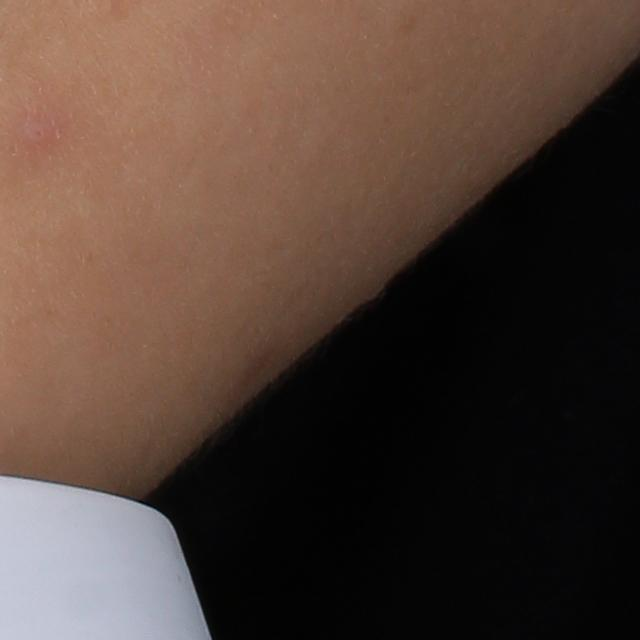papule: (10, 109, 54, 151)
